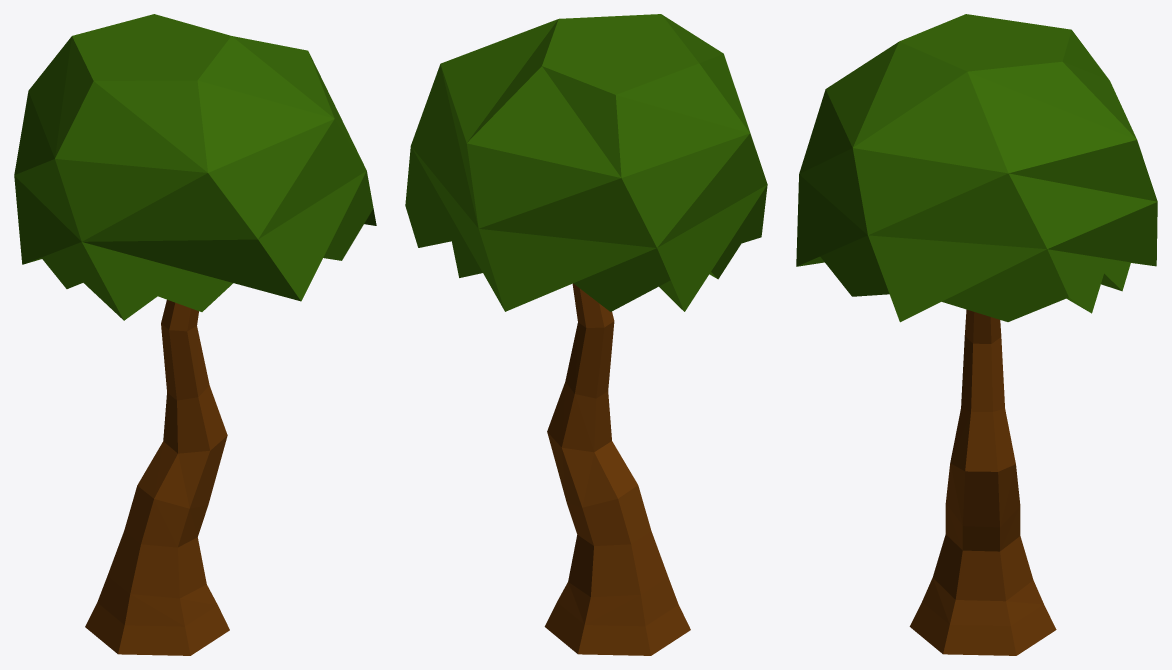
Rendered from Proto_Vegetation_Tree_Generic_02.fbx.
The picture shows the model from 3 angles, left to right: view 1: azimuth 30°, elevation 25°; view 2: azimuth 150°, elevation 25°; view 3: azimuth 270°, elevation 25°; orthographic projection.
Visible parts, largest first — view 1: Proto_Vegetation_Tree_Generic_02; view 2: Proto_Vegetation_Tree_Generic_02; view 3: Proto_Vegetation_Tree_Generic_02.
Boxes of the visible parts, x1,y1,x2,y2 form: Proto_Vegetation_Tree_Generic_02: (14, 14, 376, 655); Proto_Vegetation_Tree_Generic_02: (405, 14, 767, 655); Proto_Vegetation_Tree_Generic_02: (796, 14, 1157, 655).
Bounding box in the file's own units: 1.17 × 2.2 × 1.22.
